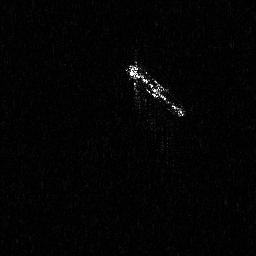ship: (123, 59, 187, 119)
